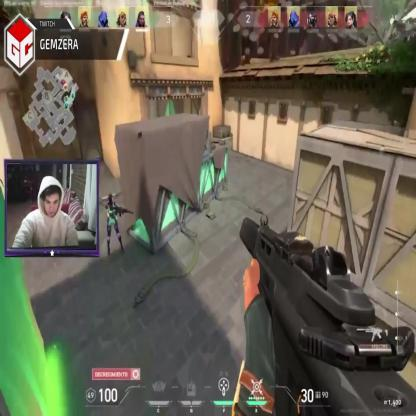enemy: (105, 193, 124, 254)
enemy_head: (108, 194, 114, 206)
